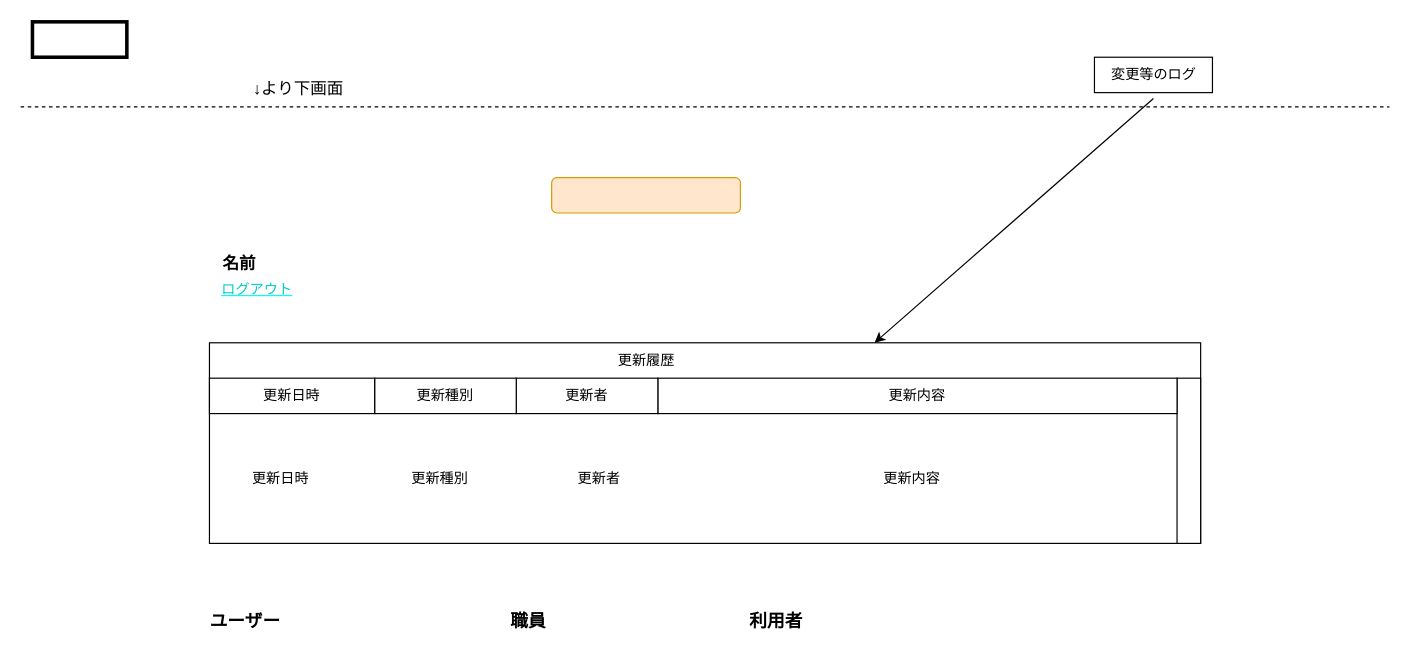
Some shapes in this 1411 by 658 pixel diagram are drawn without their labels. The centre of each missing label's shape, as x and y in pixels:
main.jsp: the point at 79,38
スクロールバー: the point at 1188,460
人事評価システム（仮）: the point at 645,194
